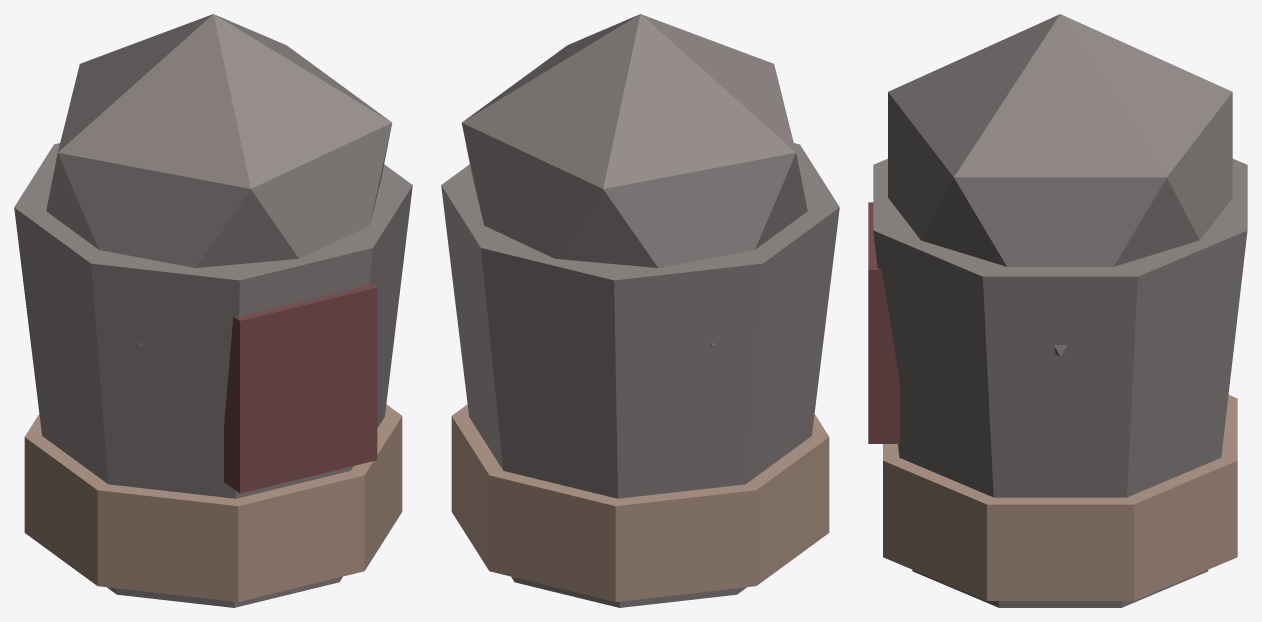
File: inf_v2_hocker_lower_arm.fbx
The picture shows the model from 3 angles, left to right: view 1: azimuth 30°, elevation 25°; view 2: azimuth 150°, elevation 25°; view 3: azimuth 270°, elevation 25°; orthographic projection.
Visible parts, largest first — view 1: inf_v2_hocker_lower_arm; view 2: inf_v2_hocker_lower_arm; view 3: inf_v2_hocker_lower_arm.
Boxes of the visible parts, left/top/right/bottom form: inf_v2_hocker_lower_arm: left=14, top=14, right=412, bottom=607; inf_v2_hocker_lower_arm: left=441, top=14, right=839, bottom=607; inf_v2_hocker_lower_arm: left=868, top=14, right=1247, bottom=607.
Size of the model in its own units: 70.21 by 110 by 71.11.
